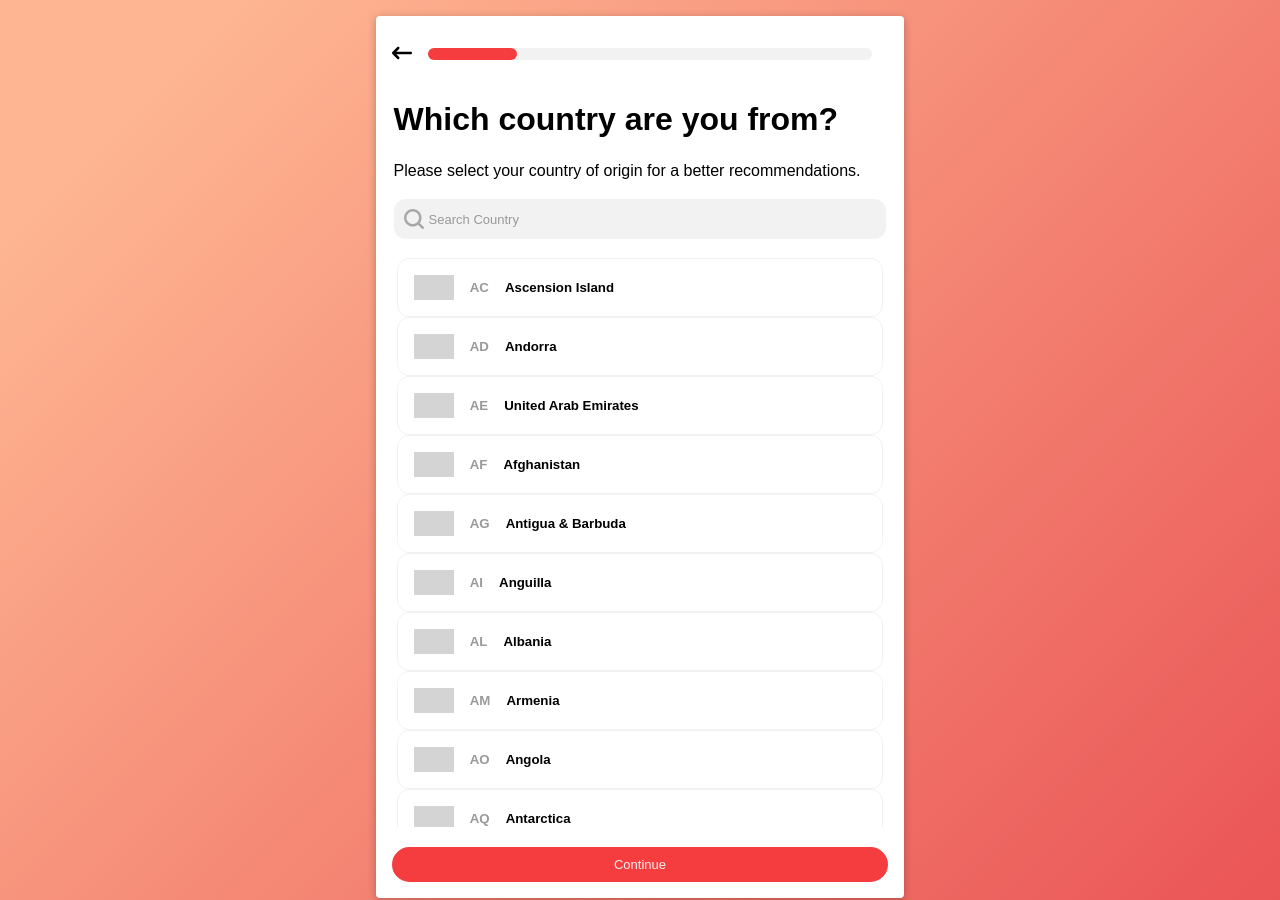
Test: CountryPage › Filters country list based on search input
Step 1. Type "United" into the field with placeholder "Search Country" → (640, 219), box [394,199,886,239]
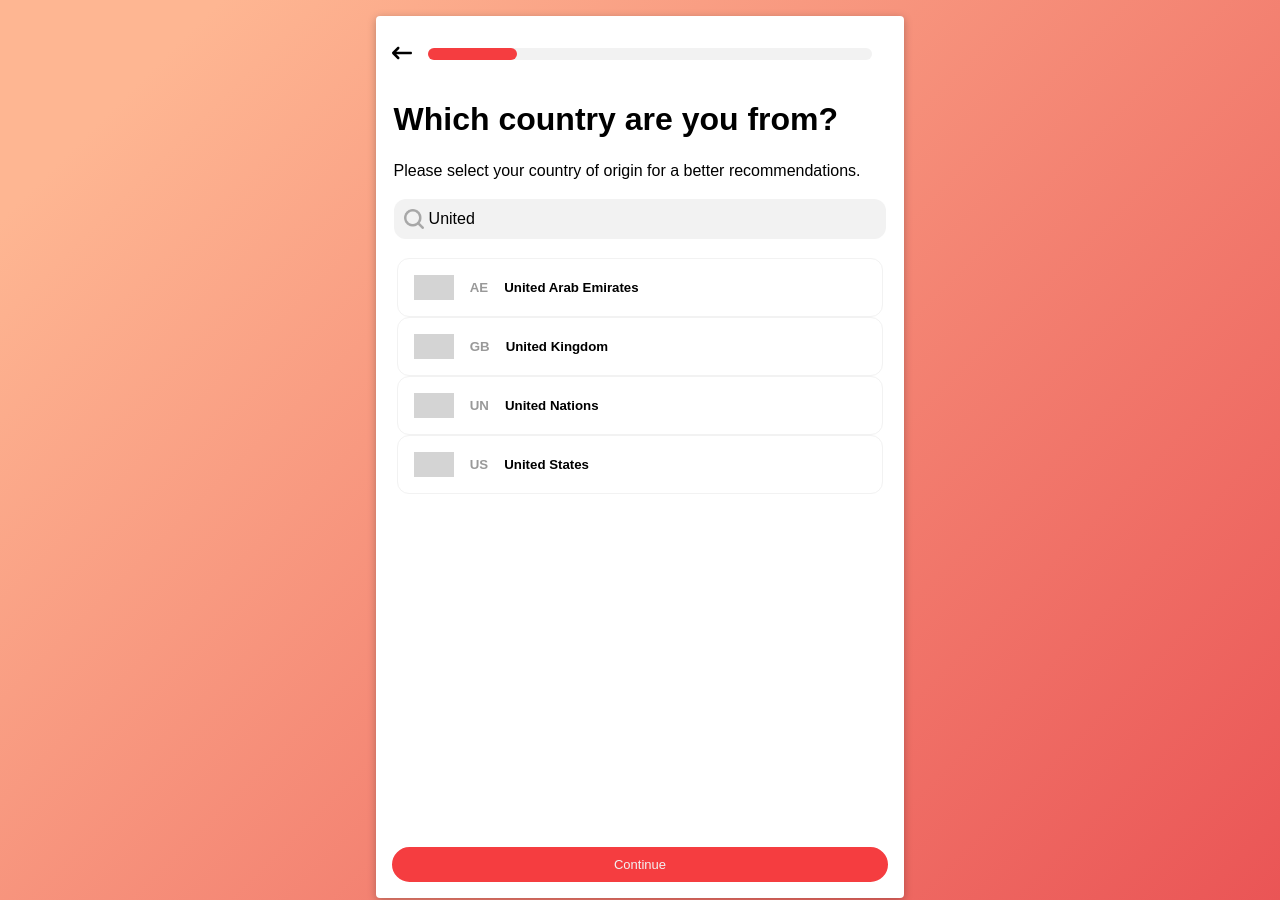
Now the button "GB United Kingdom" is shown, box [397,317,883,376]
Now the button "UN United Nations" is shown, box [397,376,883,435]
Now the button "US United States" is shown, box [397,435,883,494]
